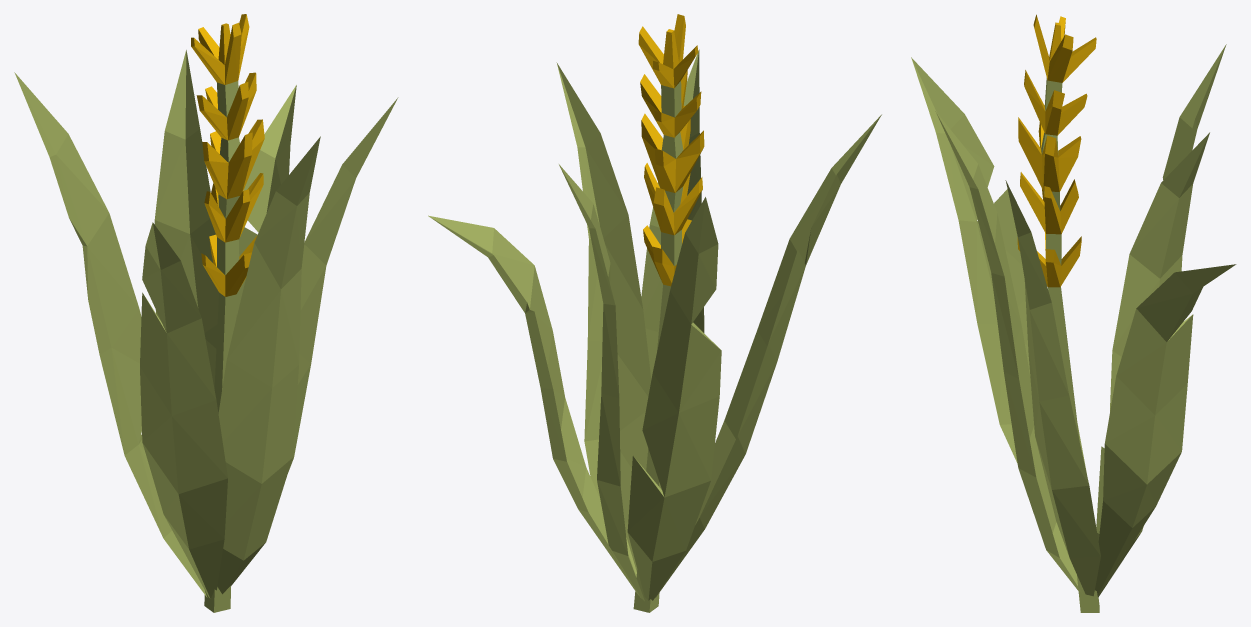
Rendered from Plant_18.fbx.
3 views of the same model, side by side, from view 1: azimuth 30°, elevation 25°; view 2: azimuth 150°, elevation 25°; view 3: azimuth 270°, elevation 25° (orthographic). The views are drawn at different scales.
Parts seen in each view (by area): view 1: Plant_18; view 2: Plant_18; view 3: Plant_18.
Part boxes in pixels (box(x1,y1,x2,y2)): Plant_18: box(14, 14, 398, 612); Plant_18: box(428, 14, 881, 612); Plant_18: box(911, 14, 1236, 612).
Bounding box in the file's own units: 0.6706 × 1.25 × 0.6244.
